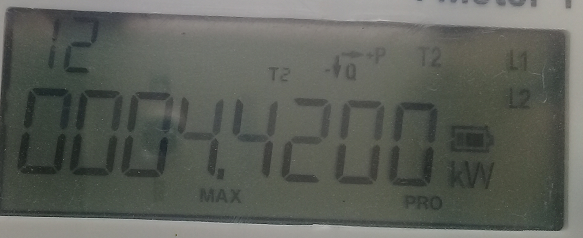digit: (329, 88, 389, 212), (384, 91, 445, 209), (276, 78, 334, 199), (126, 72, 179, 196), (10, 83, 71, 185), (68, 78, 121, 191), (226, 83, 276, 201), (174, 83, 226, 183)
